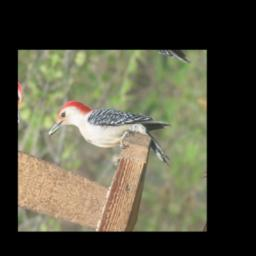Woodpecker: (45, 85, 182, 180)
